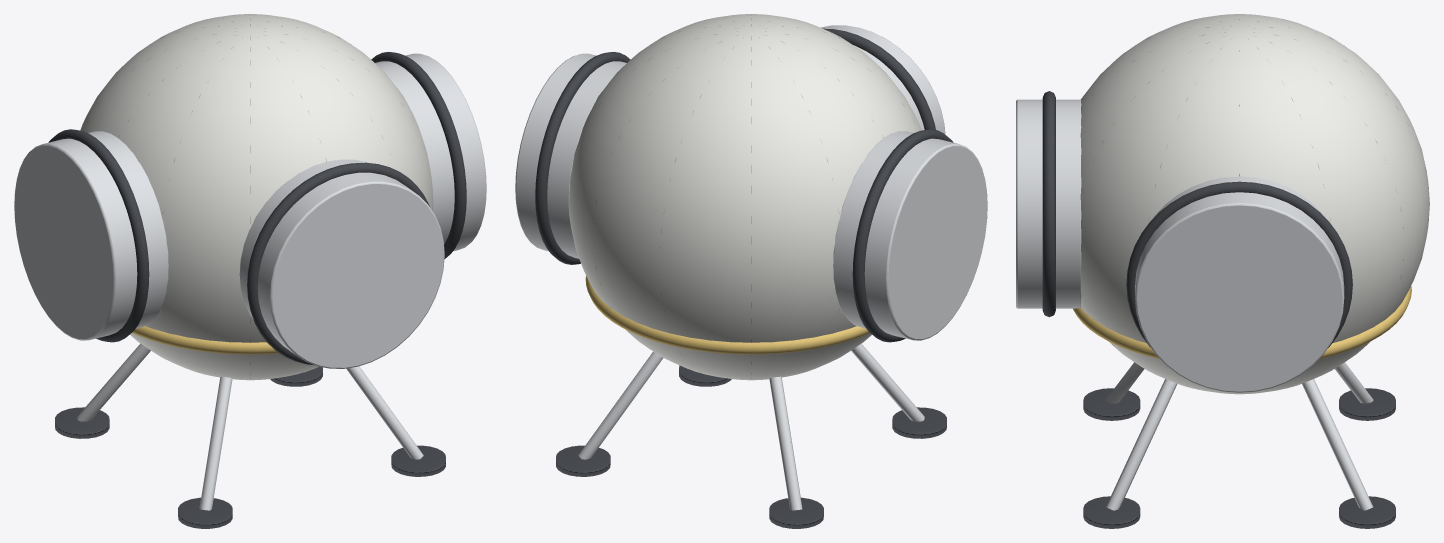
The model's file is node_module.glb.
3 renders of one model, left to right at view 1: azimuth 30°, elevation 25°; view 2: azimuth 150°, elevation 25°; view 3: azimuth 270°, elevation 25°, orthographic. The views are drawn at different scales.
Parts seen in each view (by area): view 1: node_module; view 2: node_module; view 3: node_module.
Part boxes in pixels (x1=…): node_module: x1=14, y1=14, x2=486, y2=528; node_module: x1=515, y1=14, x2=987, y2=528; node_module: x1=1016, y1=14, x2=1429, y2=528.
Bounding box in the file's own units: 4.7 × 5 × 4.35.
